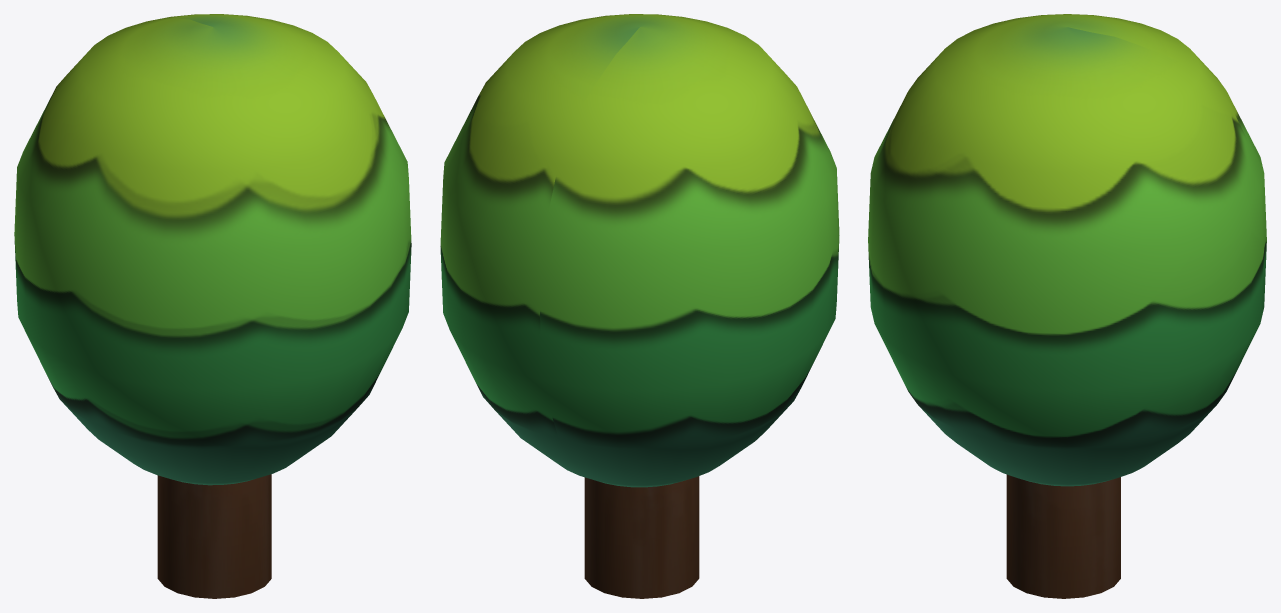
File: tree5.FBX
3 renders of one model, left to right at view 1: azimuth 30°, elevation 25°; view 2: azimuth 150°, elevation 25°; view 3: azimuth 270°, elevation 25°, orthographic.
Parts seen in each view (by area): view 1: Sphere001, Cylinder001; view 2: Sphere001, Cylinder001; view 3: Sphere001, Cylinder001.
Part boxes in pixels (<box>): Sphere001: <box>14,14,411,485</box>; Cylinder001: <box>157,474,271,598</box>; Sphere001: <box>440,14,839,487</box>; Cylinder001: <box>584,476,699,598</box>; Sphere001: <box>868,14,1266,486</box>; Cylinder001: <box>1006,474,1120,598</box>.
Size of the model in its own units: 15.12 by 22.89 by 15.12.
Materials: 1 (1 with a texture image).
